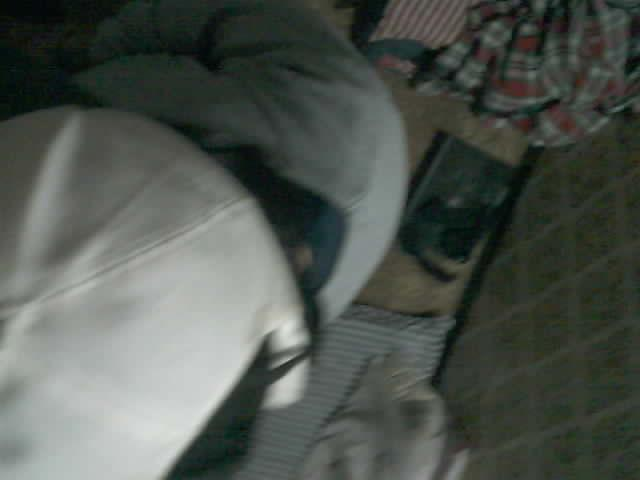cap: (0, 105, 316, 479)
